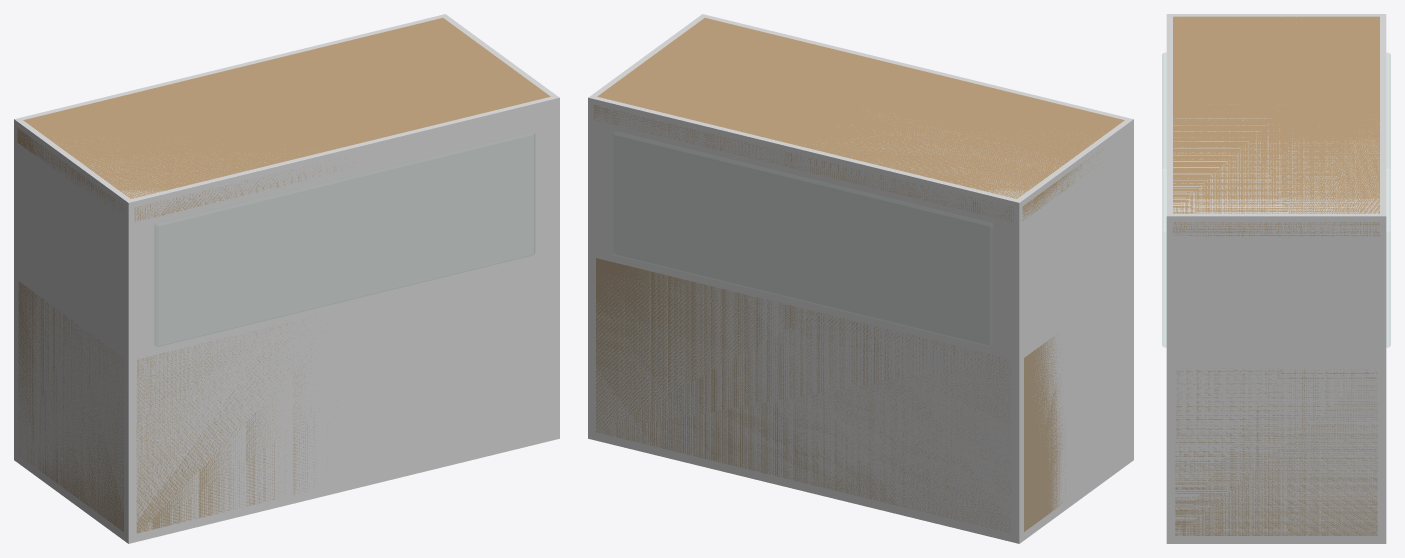
Rendered from standard.glb.
3 views of the same model, side by side, from view 1: azimuth 30°, elevation 25°; view 2: azimuth 150°, elevation 25°; view 3: azimuth 270°, elevation 25° (orthographic). The views are drawn at different scales.
Visible parts, largest first — view 1: COL_JEWELRY_CASES_STANDARD, Showcase_Cap.001, Showcase_Plinth.001, Showcase_GlassBack.001; view 2: COL_JEWELRY_CASES_STANDARD, Showcase_Cap.001, Showcase_Plinth.001, Showcase_GlassFront.001; view 3: COL_JEWELRY_CASES_STANDARD, Showcase_Cap.001, Showcase_Plinth.001, Showcase_GlassBack.001, Showcase_GlassFront.001.
Part boxes in pixels (x1,y1,x2,y2): COL_JEWELRY_CASES_STANDARD: [14, 14, 559, 543]; Showcase_Cap.001: [17, 18, 550, 221]; Showcase_Plinth.001: [18, 281, 340, 533]; Showcase_GlassBack.001: [157, 132, 534, 346]; COL_JEWELRY_CASES_STANDARD: [588, 14, 1133, 543]; Showcase_Cap.001: [593, 18, 1124, 221]; Showcase_Plinth.001: [596, 258, 1065, 531]; Showcase_GlassFront.001: [613, 132, 990, 346]; COL_JEWELRY_CASES_STANDARD: [1166, 14, 1386, 543]; Showcase_Cap.001: [1173, 16, 1379, 236]; Showcase_Plinth.001: [1175, 369, 1377, 535]; Showcase_GlassBack.001: [1162, 53, 1166, 347]; Showcase_GlassFront.001: [1386, 53, 1390, 347].
Size of the model in its own units: 1.35 by 1.02 by 0.645.
